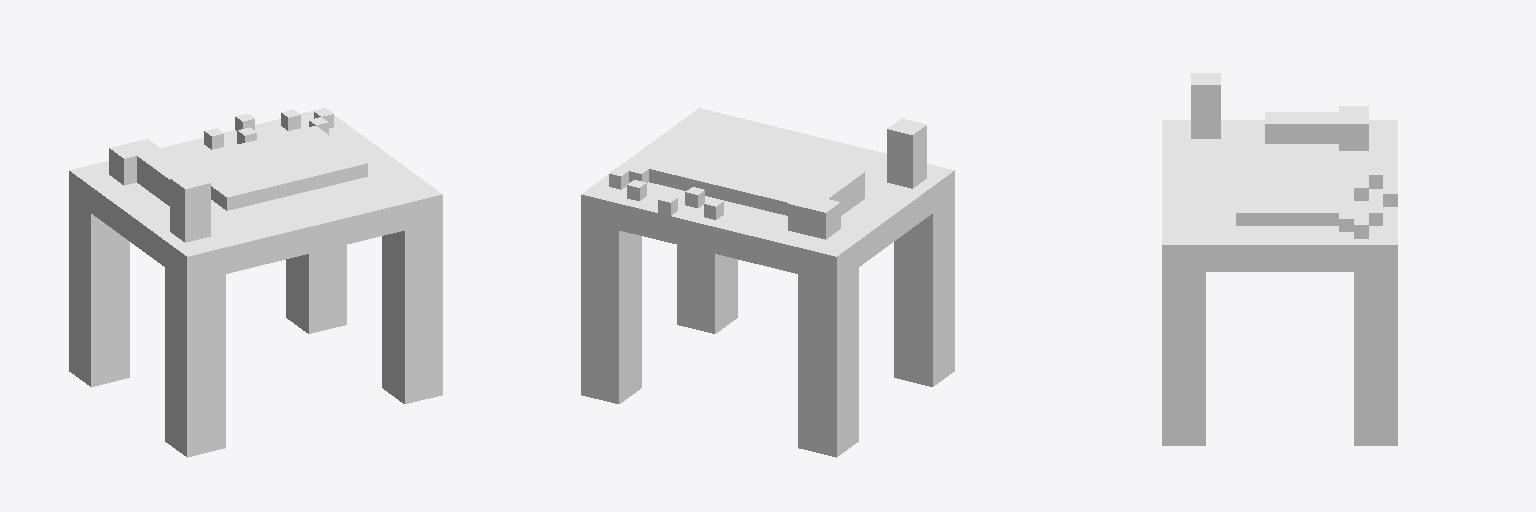
The model's file is CraftingTable.obj.
3 views of the same model, side by side, from view 1: azimuth 30°, elevation 25°; view 2: azimuth 150°, elevation 25°; view 3: azimuth 270°, elevation 25° (orthographic).
Visible parts, largest first — view 1: object 1; view 2: object 1; view 3: object 1.
Boxes of the visible parts, x1=… form: object 1: x1=69, y1=108, x2=442, y2=457; object 1: x1=581, y1=108, x2=954, y2=457; object 1: x1=1162, y1=73, x2=1397, y2=445.
Bounding box in the file's own units: 2 × 1.9 × 1.6.